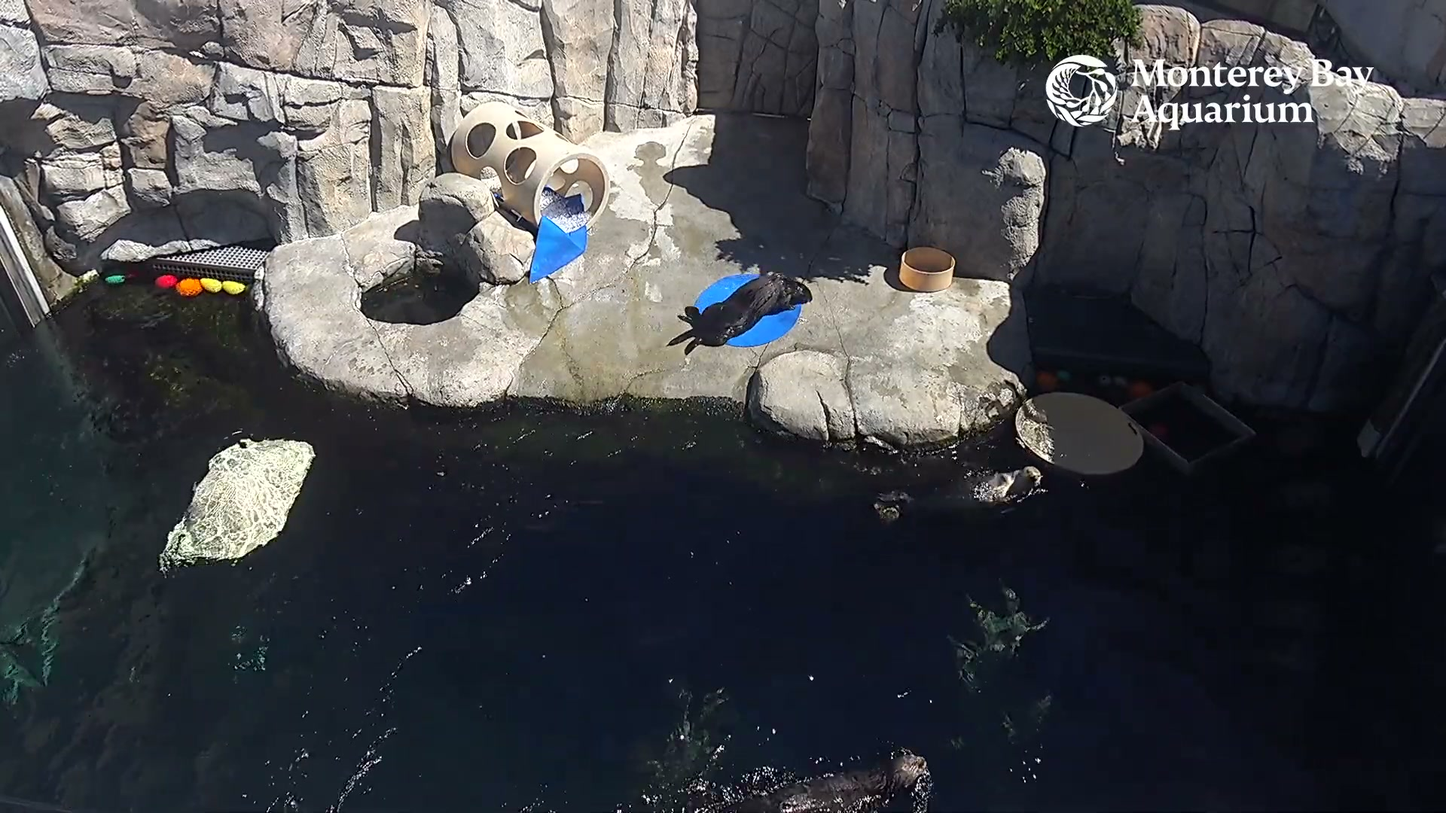Southern Sea Otter: (692, 736, 954, 813), (654, 265, 821, 360)
